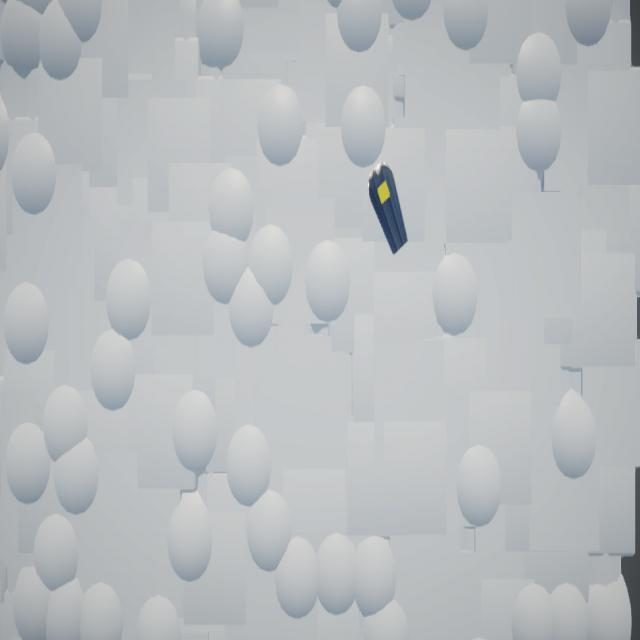handle_folk: (369, 164, 409, 256)
